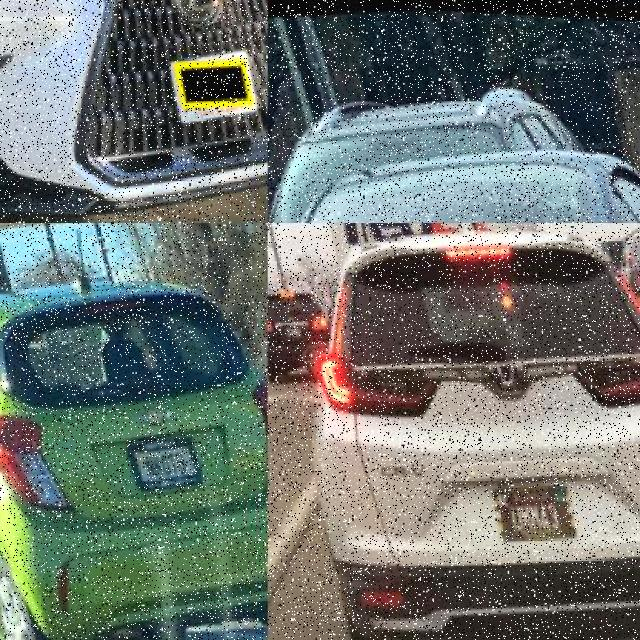licenseplate: (160, 44, 248, 118), (481, 480, 568, 538), (118, 432, 198, 487)
